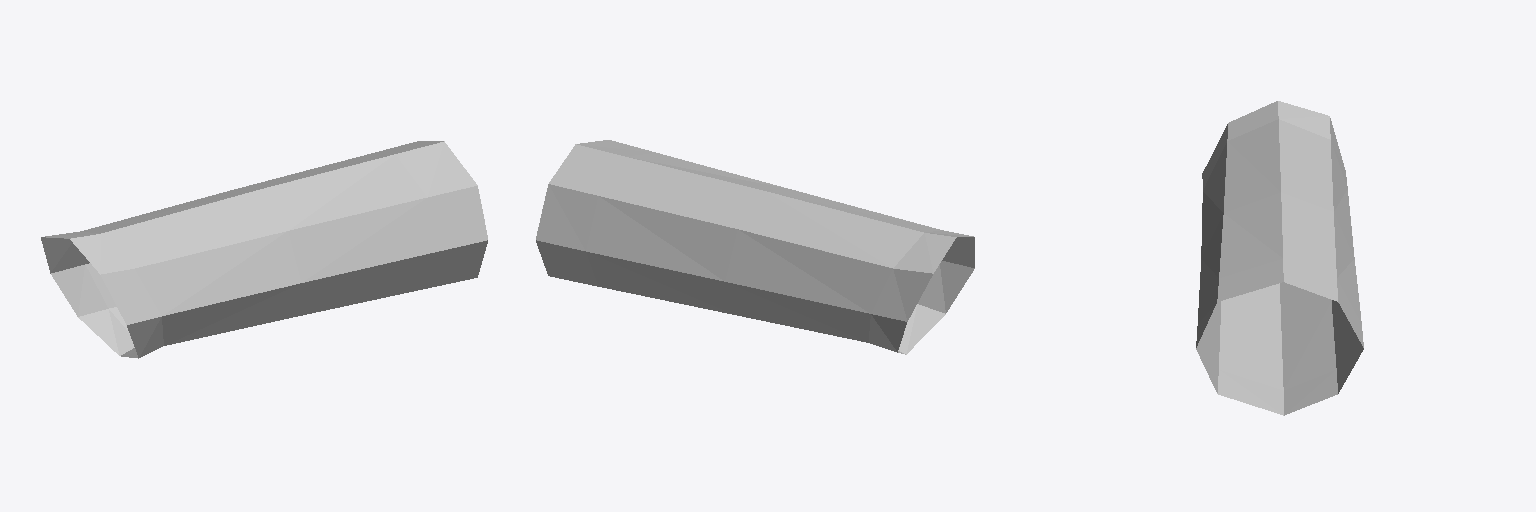
The model's file is up_arms_R.obj.
3 views of the same model, side by side, from view 1: azimuth 30°, elevation 25°; view 2: azimuth 150°, elevation 25°; view 3: azimuth 270°, elevation 25° (orthographic).
Visible parts, largest first — view 1: Meowth; view 2: Meowth; view 3: Meowth.
Boxes of the visible parts, box(x1,y1,x2,y2) form: Meowth: box(41, 141, 487, 358); Meowth: box(536, 140, 974, 354); Meowth: box(1196, 101, 1363, 415).
Bounding box in the file's own units: 7.86 × 2.63 × 3.